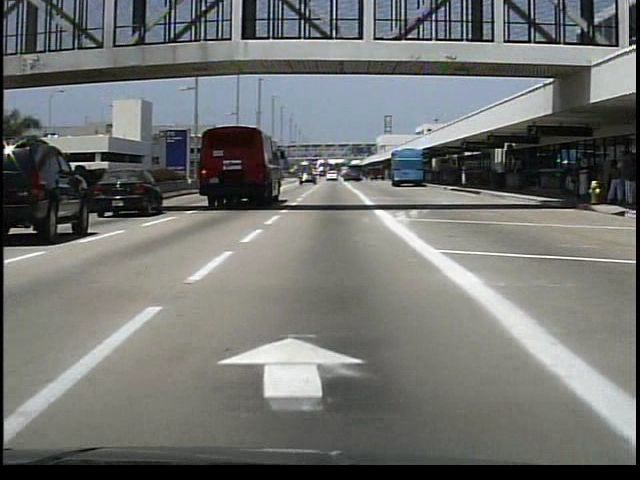person: (497, 162, 511, 192)
